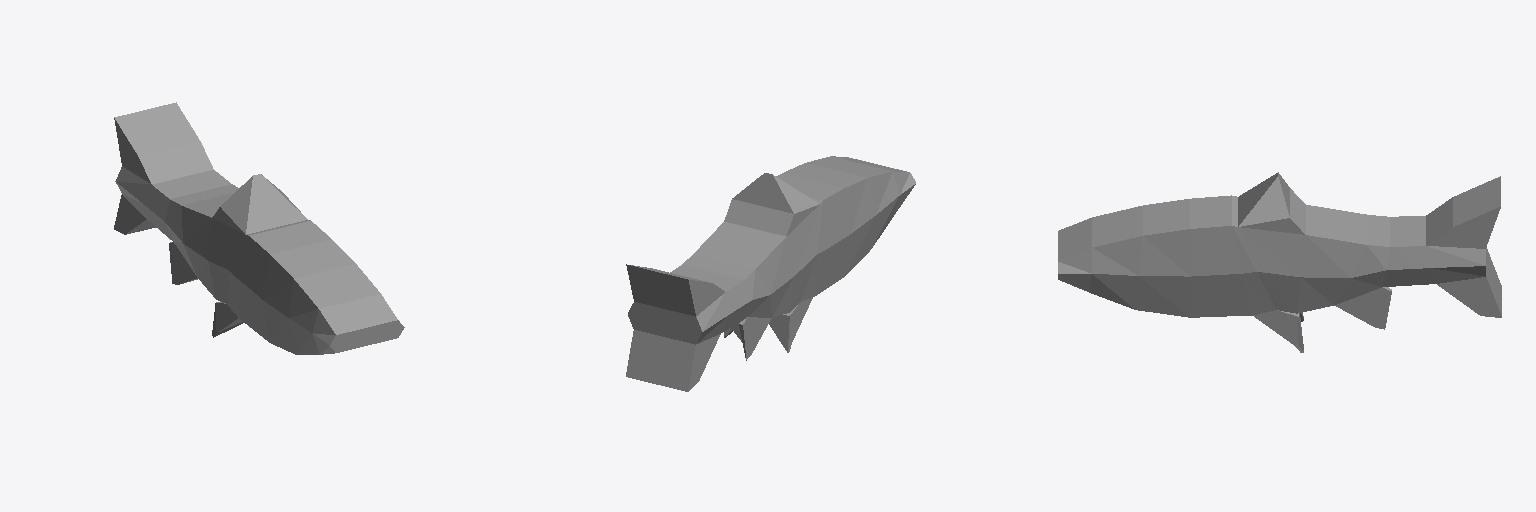
File: fish.obj
3 views of the same model, side by side, from view 1: azimuth 30°, elevation 25°; view 2: azimuth 150°, elevation 25°; view 3: azimuth 270°, elevation 25° (orthographic).
Visible parts, largest first — view 1: Plane; view 2: Plane; view 3: Plane.
Part boxes in pixels (left/top/right/bottom): Plane: left=114, top=102, right=404, bottom=354; Plane: left=626, top=156, right=915, bottom=391; Plane: left=1058, top=172, right=1501, bottom=352.
Bounding box in the file's own units: 0.9644 × 2.01 × 4.95.